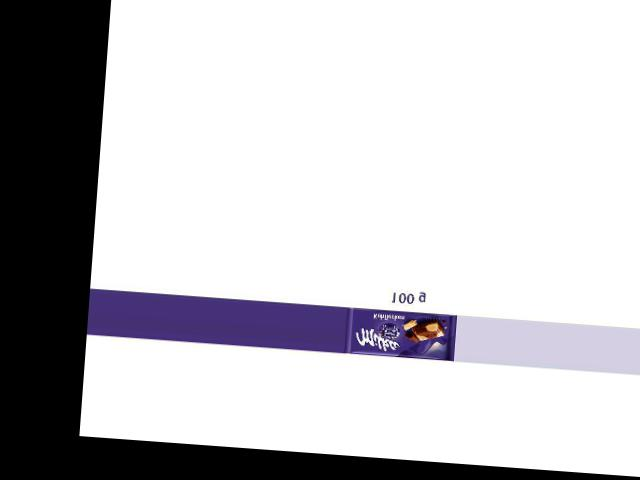chocolate: (343, 305, 457, 361)
